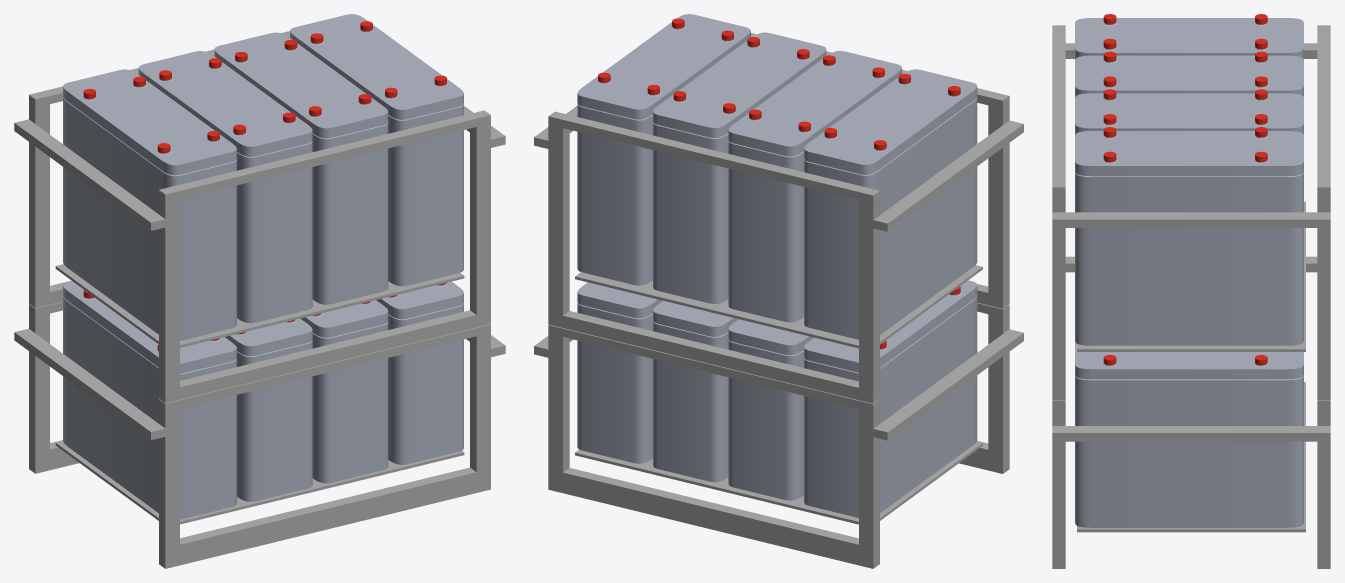
3 renders of one model, left to right at view 1: azimuth 30°, elevation 25°; view 2: azimuth 150°, elevation 25°; view 3: azimuth 270°, elevation 25°, orthographic. The views are drawn at different scales.
Parts seen in each view (by area): view 1: RM1-BH08W075D050_06, RM1-BH08W075D050_01, RM1-BH08W075D050_03, RM1-BH08W075D050_02, RM1-BH08W075D050_04; view 2: RM1-BH08W075D050_06, RM1-BH08W075D050_01, RM1-BH08W075D050_02, RM1-BH08W075D050_04, RM1-BH08W075D050_03; view 3: RM1-BH08W075D050_04, RM1-BH08W075D050_06, RM1-BH08W075D050_02, RM1-BH08W075D050_03, RM1-BH08W075D050_01.
Part boxes in pixels (x1,y1,x2,y2): RM1-BH08W075D050_06: (14, 31, 505, 568); RM1-BH08W075D050_01: (63, 69, 236, 519); RM1-BH08W075D050_03: (214, 32, 388, 483); RM1-BH08W075D050_02: (138, 51, 312, 501); RM1-BH08W075D050_04: (290, 14, 463, 464); RM1-BH08W075D050_06: (534, 33, 1023, 568); RM1-BH08W075D050_01: (804, 69, 977, 517); RM1-BH08W075D050_02: (728, 51, 901, 500); RM1-BH08W075D050_04: (577, 14, 750, 463); RM1-BH08W075D050_03: (653, 32, 826, 482); RM1-BH08W075D050_04: (1075, 127, 1303, 527); RM1-BH08W075D050_06: (1052, 25, 1330, 568); RM1-BH08W075D050_02: (1075, 51, 1303, 97); RM1-BH08W075D050_03: (1075, 89, 1303, 134); RM1-BH08W075D050_01: (1075, 14, 1303, 59).
Size of the model in its own units: 0.75 by 0.8 by 0.5.
